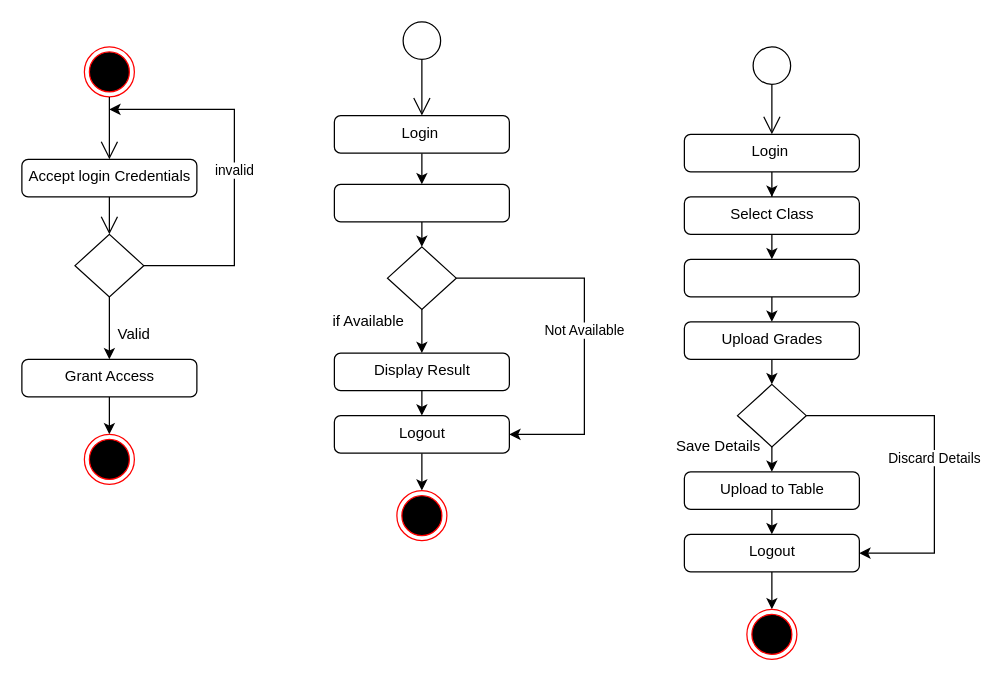
Image size: 1003x681. Some labels were removed from this diagram. Each missing label, with the box of its shape:
Select Result: (333, 183, 509, 222)
Select Student: (683, 258, 859, 297)
